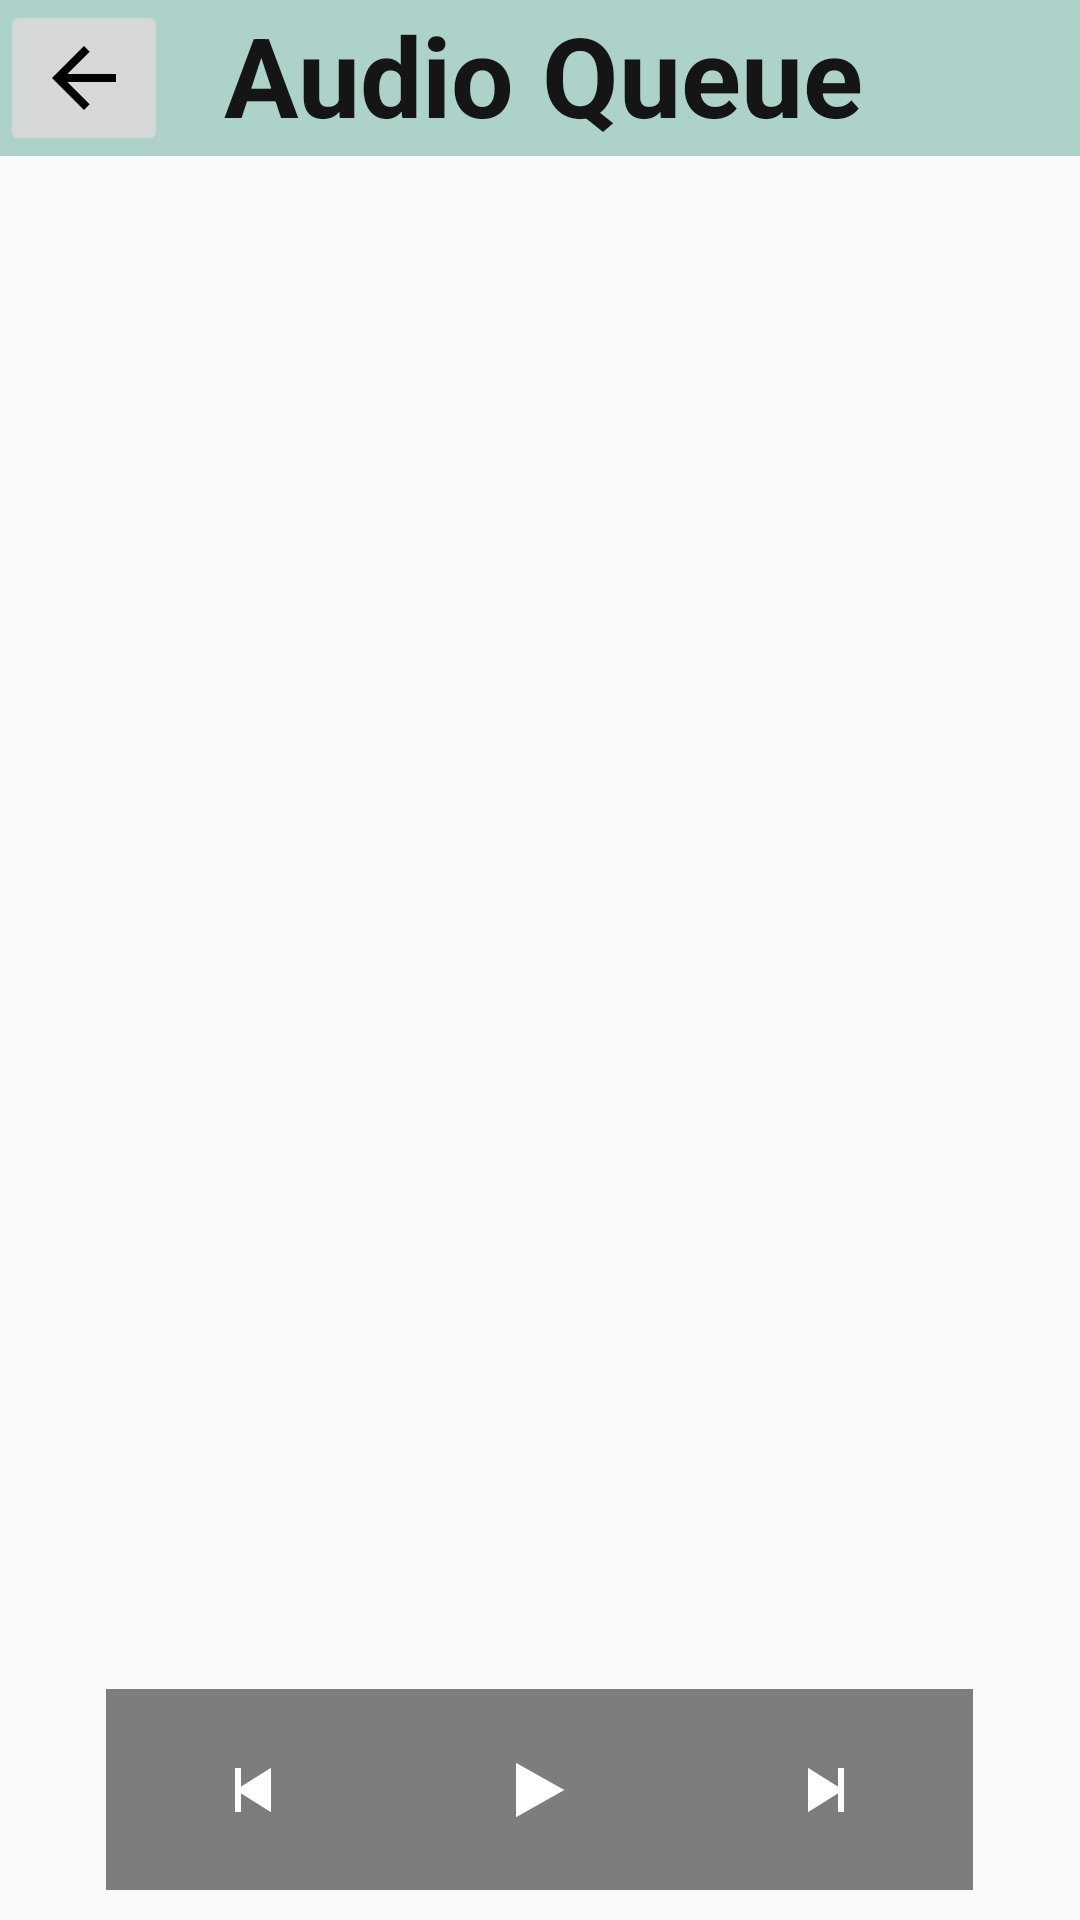

Where icons sit on this 1080*1920 app screen, as bbox=(x1, y1, x2, y2):
arrow back: bbox=(12, 18, 156, 138)
next: bbox=(679, 1689, 973, 1890)
play: bbox=(516, 1763, 564, 1817)
previous: bbox=(106, 1689, 400, 1890)
